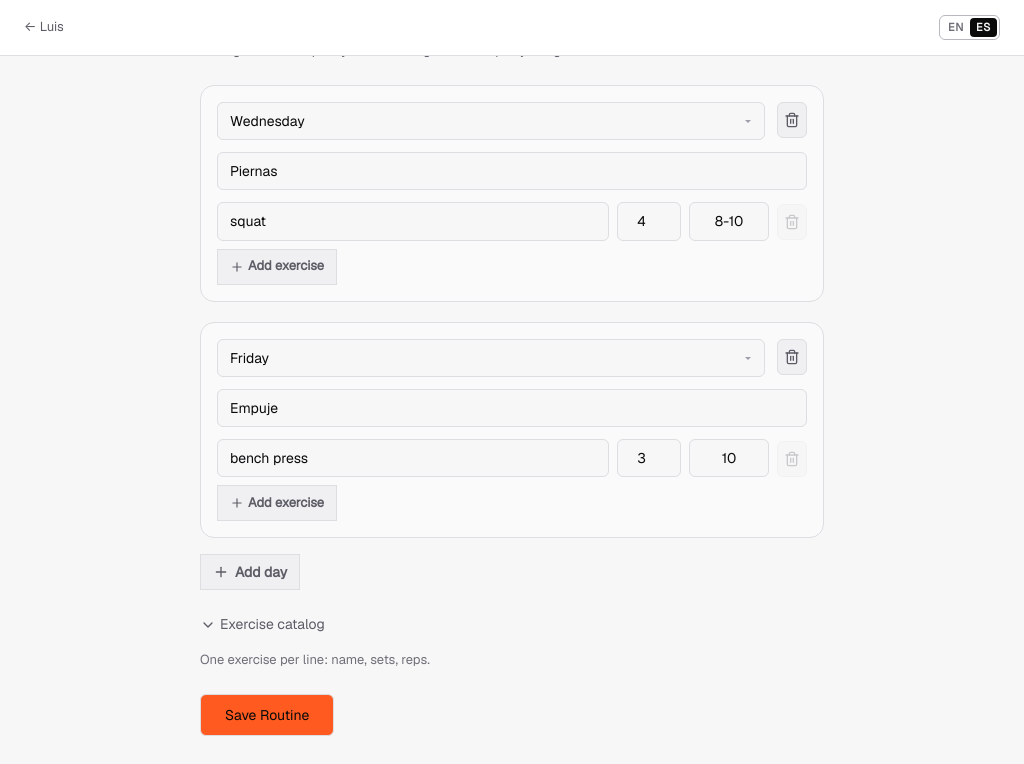
RoutineEditor › shows server validation errors
(page scrolled)
Click the button "Save Routine" at (267, 715), box x1=200 y1=694 x2=334 y2=736
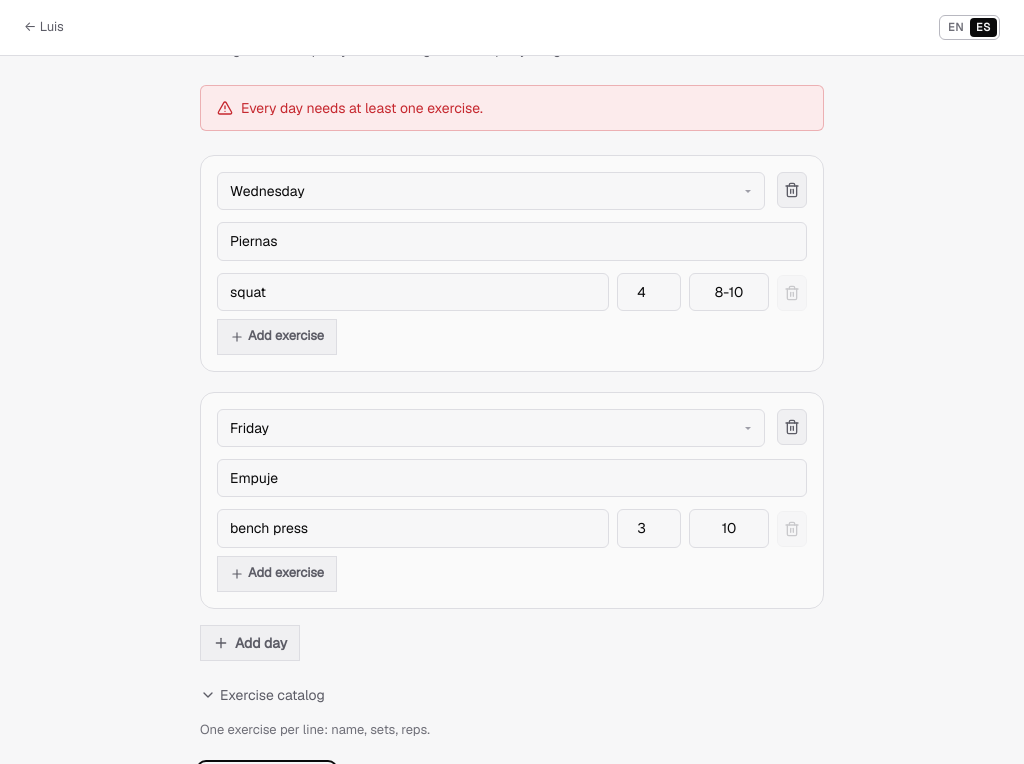
Result: the text "Every day needs at least one exercise." is shown at x1=241 y1=98 x2=483 y2=118
